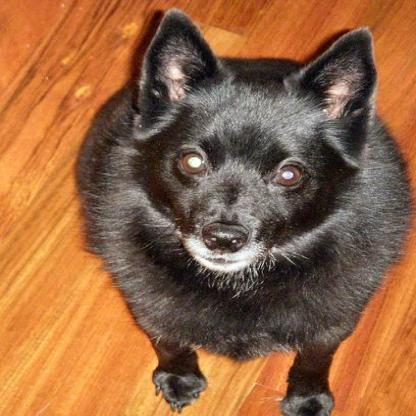schipperke: (73, 8, 412, 414)
